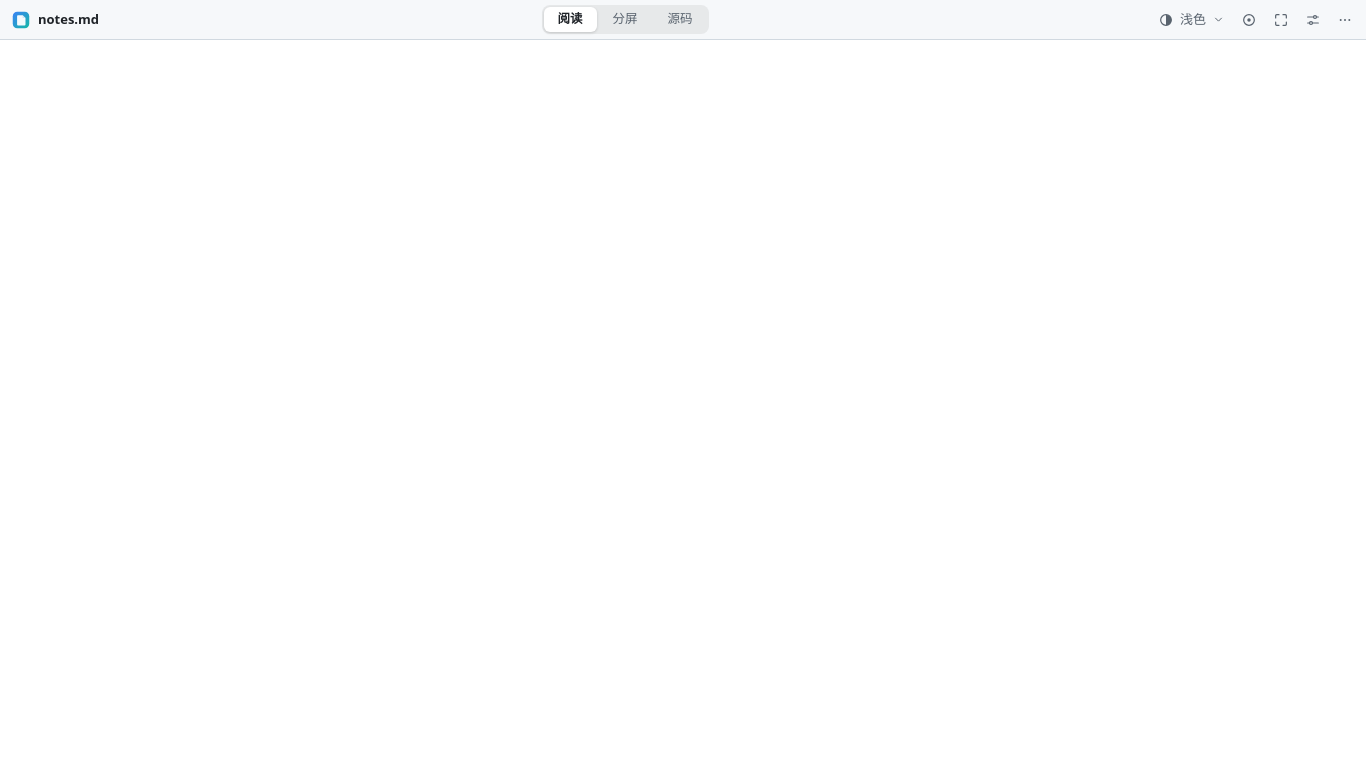
Test: TitleBar › lists share actions only in share builds
The image size is (1366, 768).
Click the button titled "更多操作".
click(1345, 20)  # box [1330, 6, 1360, 34]
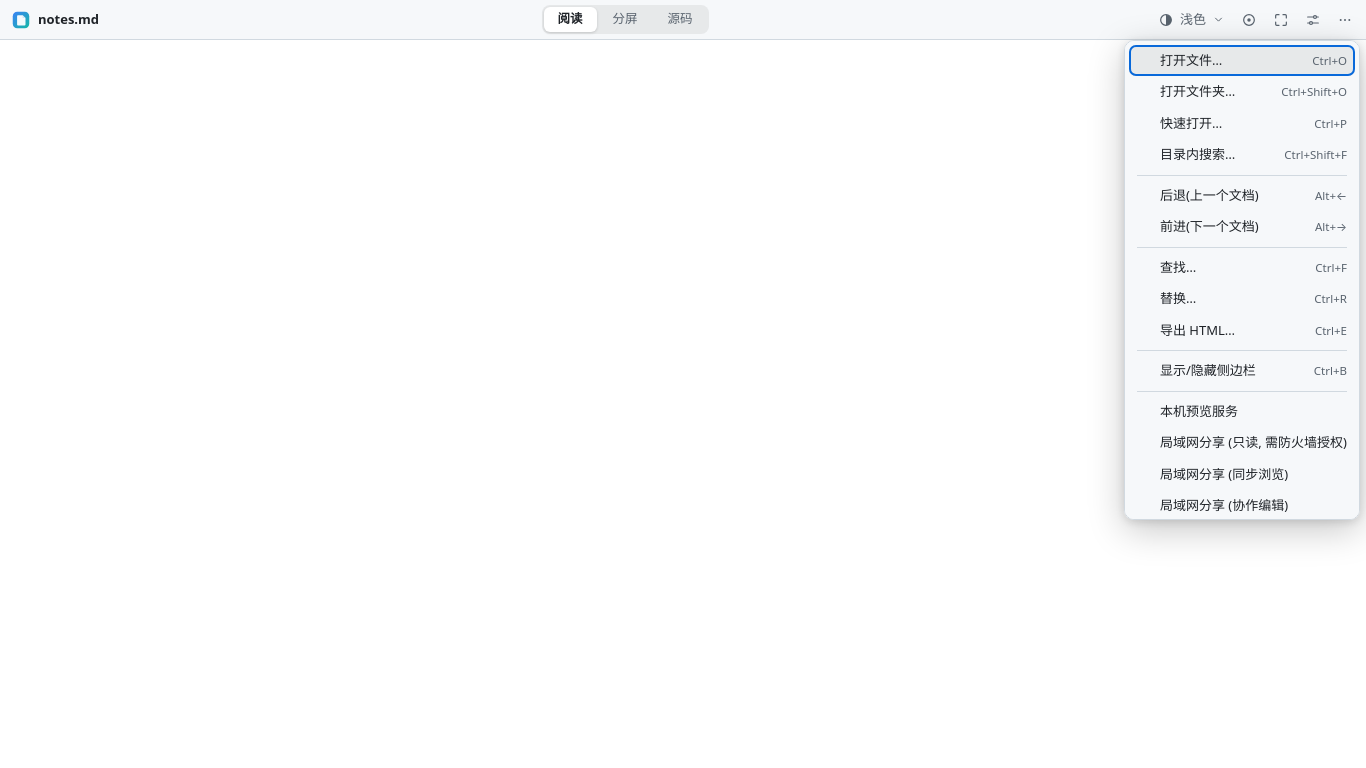
Expected: the menu item "本机预览服务" is shown, [1129, 396, 1355, 427]
Expected: the menu item "局域网分享 (同步浏览)" is shown, [1129, 458, 1355, 490]
